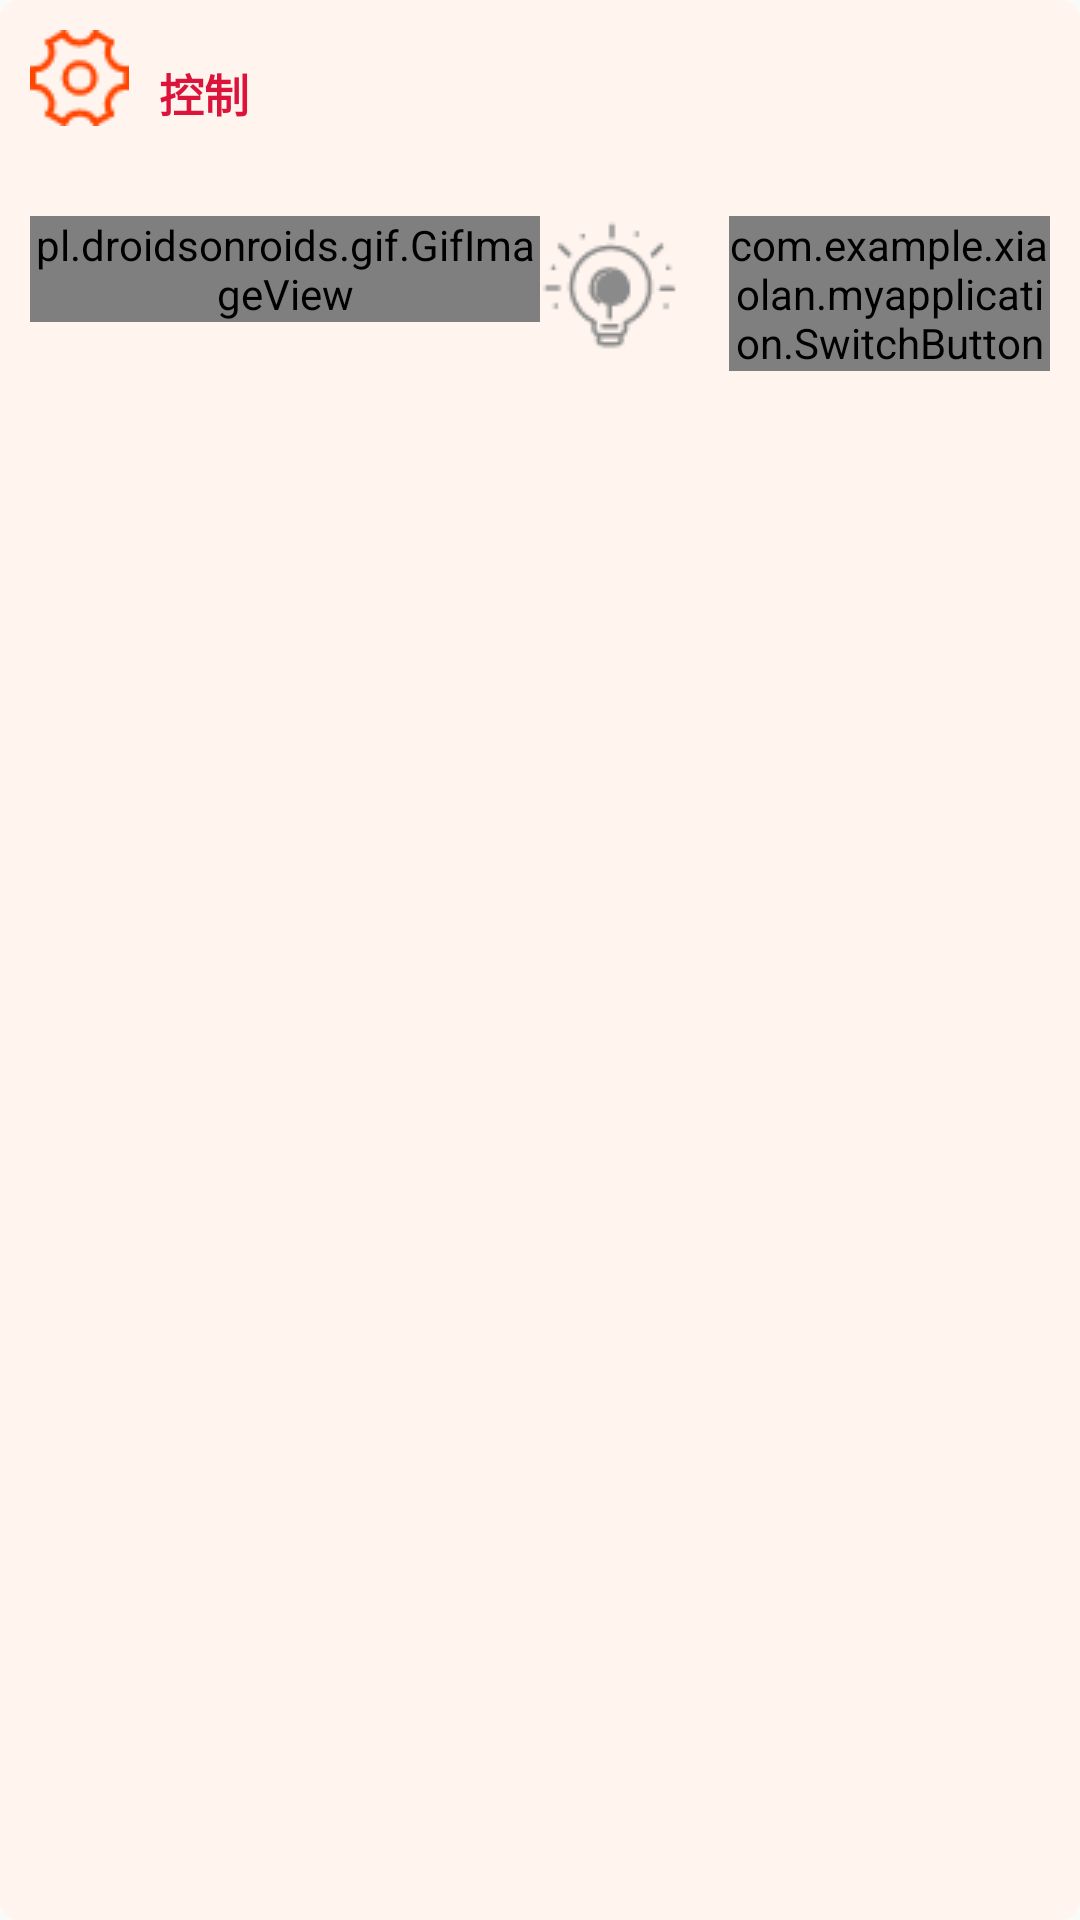

Icons on this 1080px x 1920px Android screen, each with the point to tap as [x,y]:
lamp close: [610,286]
